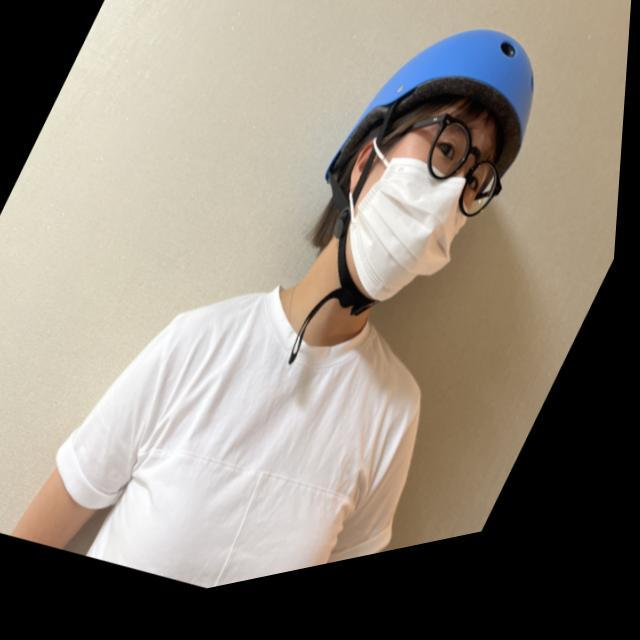Helmet: (306, 8, 555, 331)
